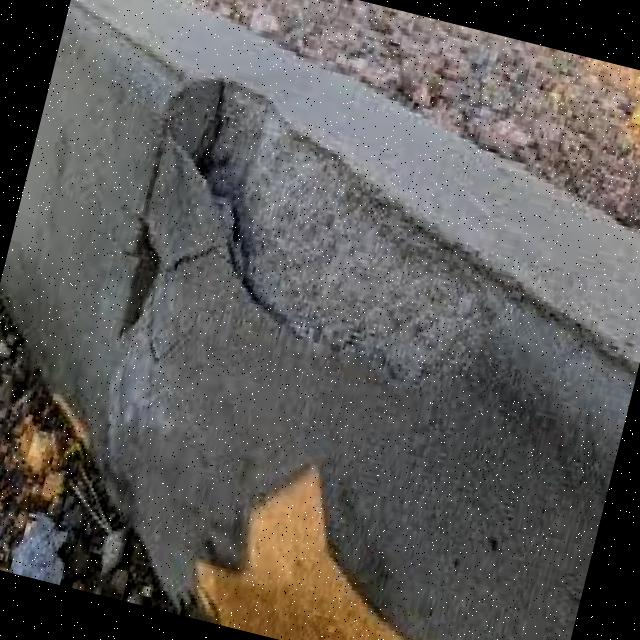curb: (1, 1, 640, 640)
